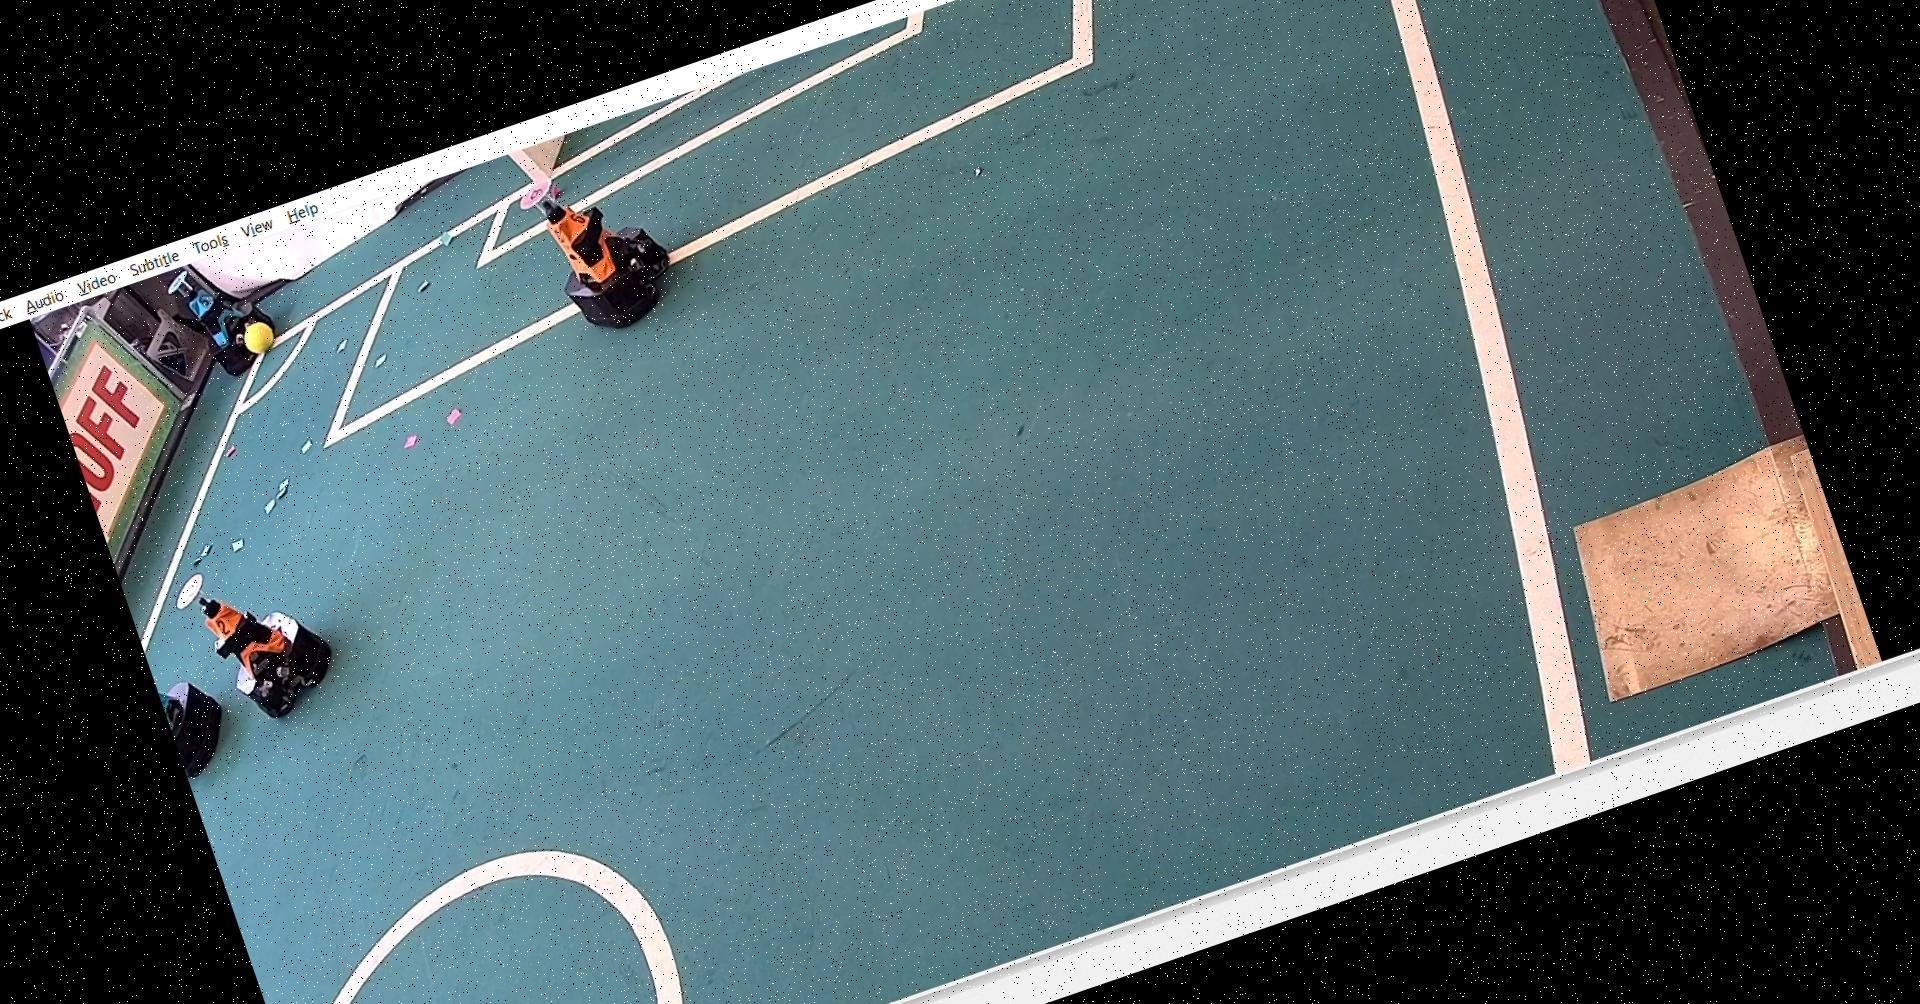Ball: (237, 316, 284, 363)
Team_Blue: (160, 244, 296, 390)
Team_Red: (165, 533, 349, 736), (516, 154, 690, 341)
